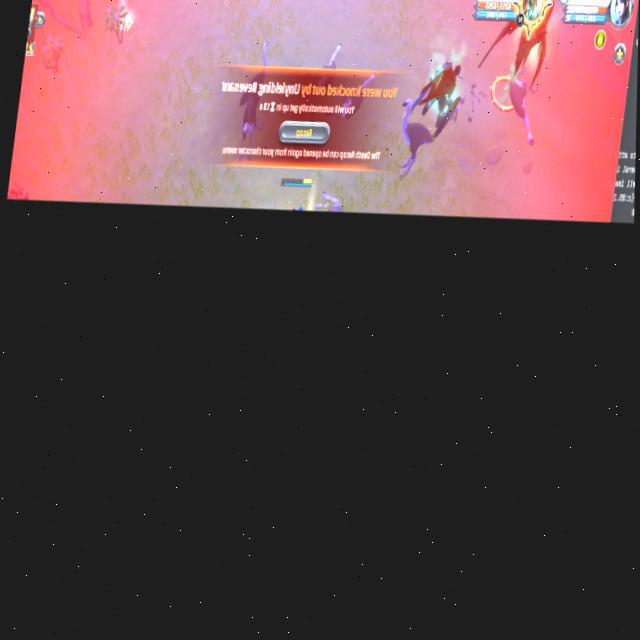hide: (37, 26, 68, 78), (100, 0, 130, 51)
mob: (497, 64, 544, 152), (333, 64, 377, 131), (316, 39, 343, 88)
ore: (472, 0, 562, 118), (405, 50, 468, 139), (382, 91, 441, 186), (236, 35, 273, 119), (229, 95, 263, 173)
red: (274, 169, 318, 199)
stone: (116, 13, 137, 36)
